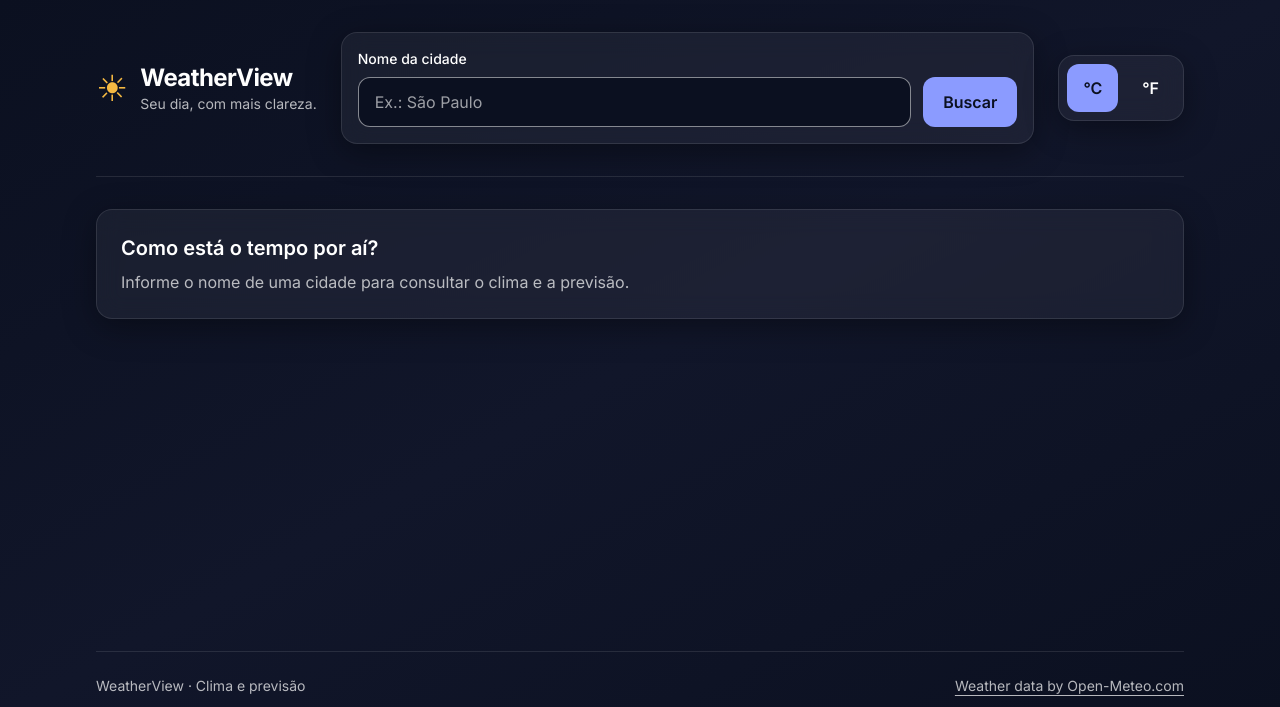
Test: App integrado ao useWeather › mantém a seção válida e oferece retry quando current está indisponível
Type "São Paulo" into the search field at {"x": 635, "y": 102}, box [358,77,911,127]
Then press Enter
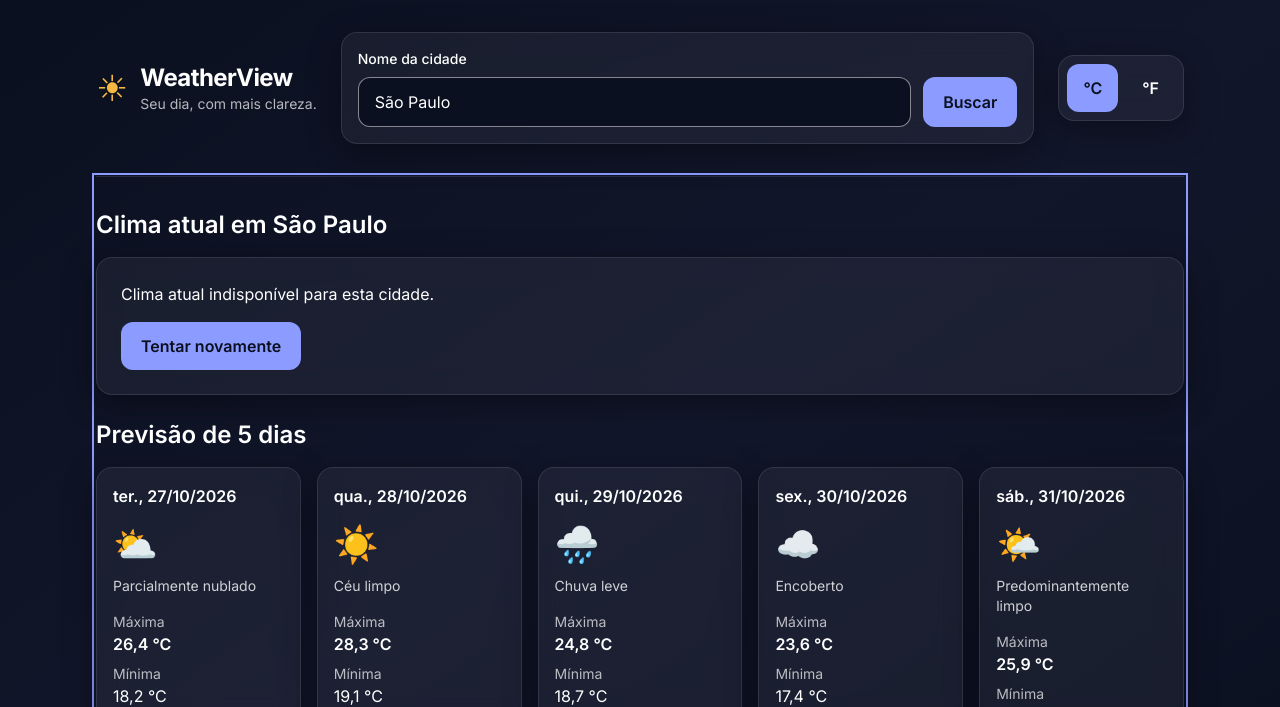
Check: the message reads "Clima atual indisponível para esta cidade.", box [121,284,434,304]
Check: the heading "Clima atual em São Paulo" is shown, box [96,210,387,239]
Click the button "°F" at {"x": 1151, "y": 88}, box [1126,64,1175,112]
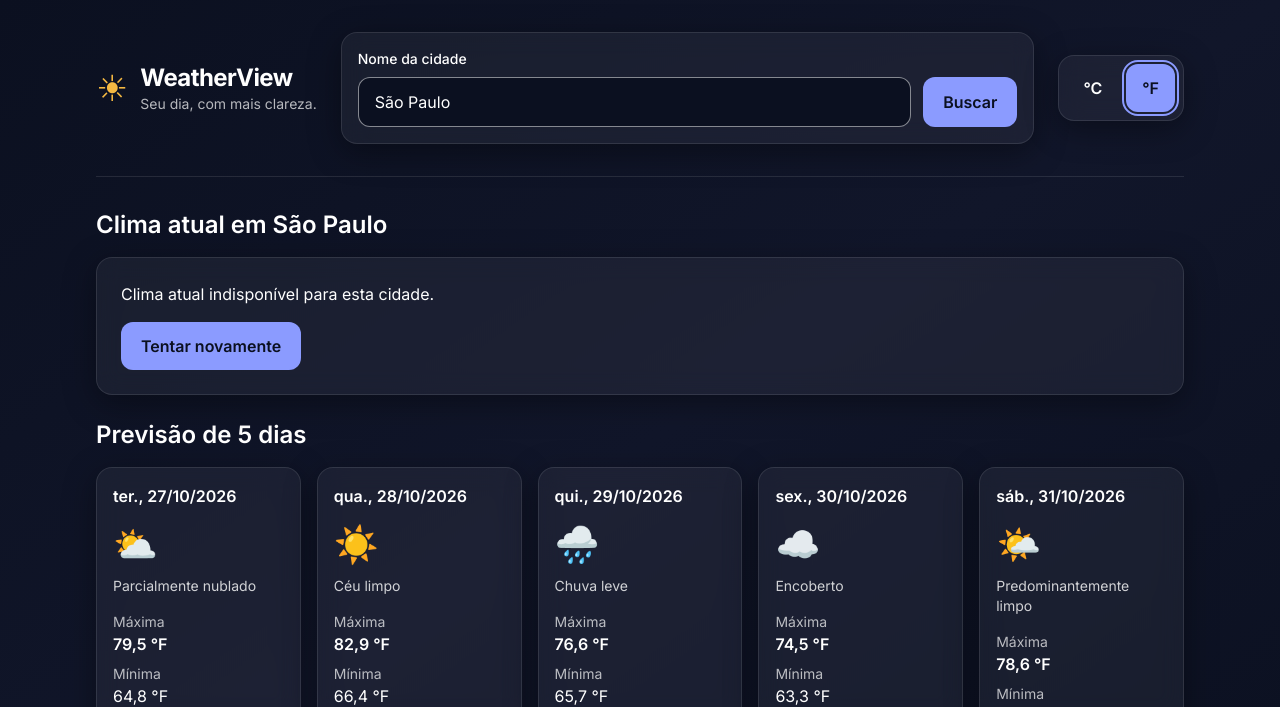
Click the button "Tentar novamente" at {"x": 211, "y": 346}, box [121,322,301,370]
(page scrolled)
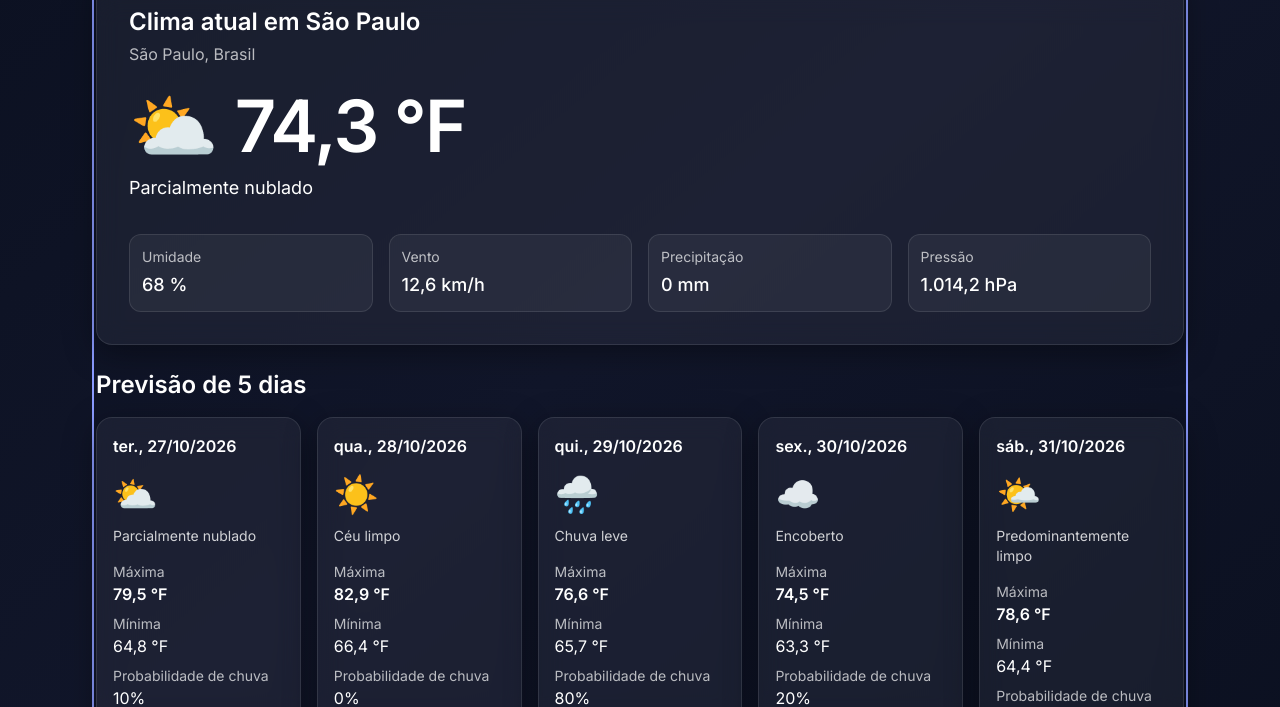
Check: the text "74,3 °F" is shown, box [235,90,466,162]
Check: the message "Clima atual indisponível para esta cidade." is gone
